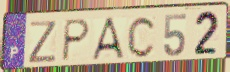2: (192, 8, 222, 59)
5: (162, 11, 187, 58)
A: (90, 16, 127, 62)
C: (126, 15, 158, 60)
P: (60, 18, 93, 64)
Z: (26, 19, 58, 65)
